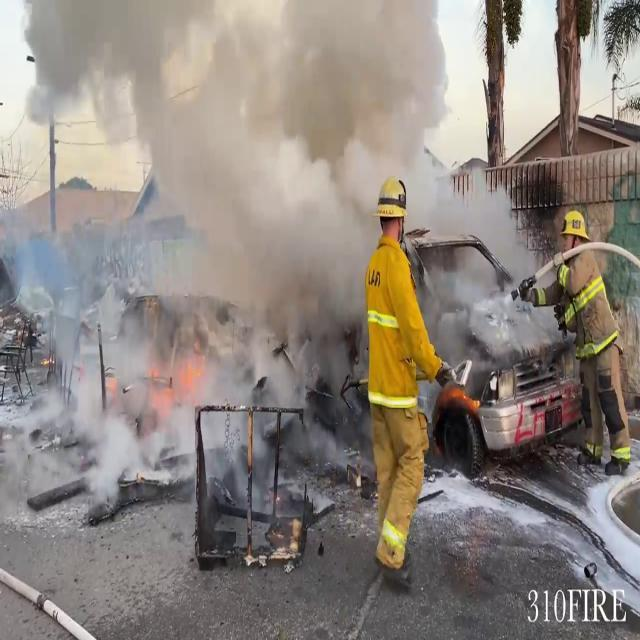Smoke: (4, 0, 563, 501)
